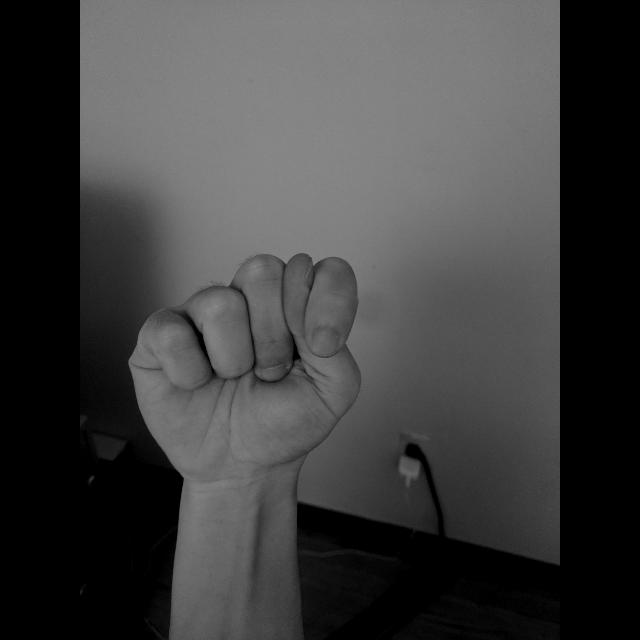T: (122, 241, 368, 489)
